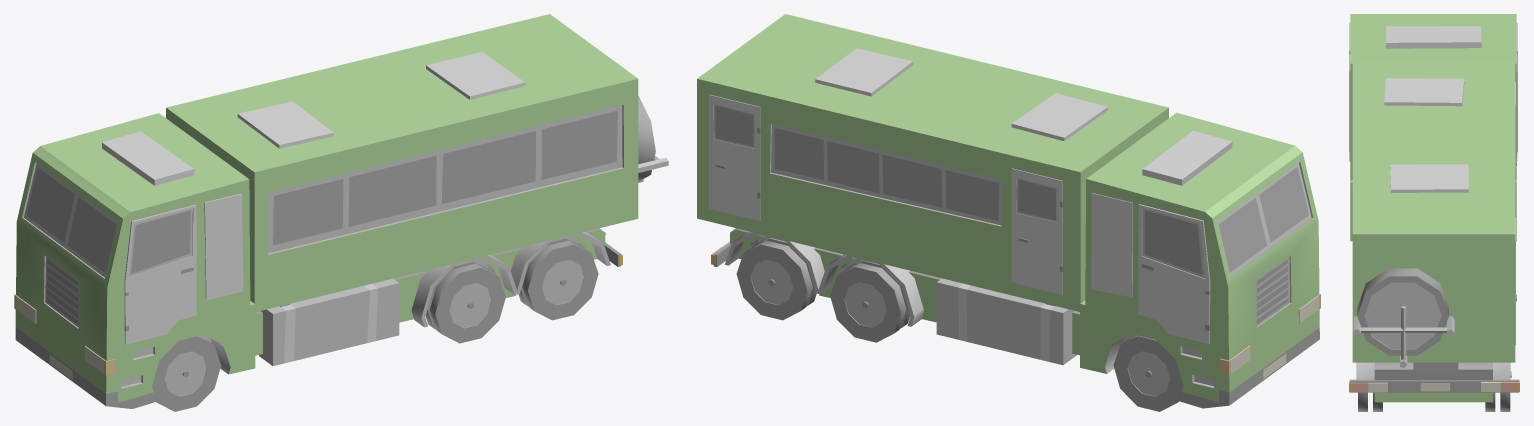
The model's file is kar14.fbx.
The picture shows the model from 3 angles, left to right: view 1: azimuth 30°, elevation 25°; view 2: azimuth 150°, elevation 25°; view 3: azimuth 270°, elevation 25°; orthographic projection. The views are drawn at different scales.
Visible parts, largest first — view 1: Cylinder_7, Extrude_1_1, Cylinder_4_1, Cylinder_3_1, Cylinder_1_1; view 2: Cylinder_7, Extrude_2_1, Cube_5_1, Cube_5, Cylinder_5_1, Cylinder_1, Cylinder_2_1; view 3: Cylinder_7, Cylinder_1, Cylinder_3_1.
Part boxes in pixels (left/top/right/bottom): Cylinder_7: left=14, top=14, right=668, bottom=408; Extrude_1_1: left=124, top=204, right=196, bottom=344; Cylinder_4_1: left=425, top=260, right=505, bottom=343; Cylinder_3_1: left=518, top=238, right=598, bottom=320; Cylinder_1_1: left=152, top=336, right=221, bottom=411; Cylinder_7: left=697, top=14, right=1320, bottom=408; Extrude_2_1: left=1138, top=204, right=1210, bottom=343; Cube_5_1: left=709, top=94, right=760, bottom=220; Cube_5: left=1011, top=168, right=1062, bottom=294; Cylinder_5_1: left=830, top=260, right=910, bottom=342; Cylinder_1: left=736, top=237, right=816, bottom=320; Cylinder_2_1: left=1113, top=335, right=1183, bottom=411; Cylinder_7: left=1349, top=14, right=1519, bottom=402; Cylinder_1: left=1485, top=371, right=1511, bottom=411; Cylinder_3_1: left=1358, top=392, right=1382, bottom=411.
Size of the model in its own units: 879 by 338 by 251.
